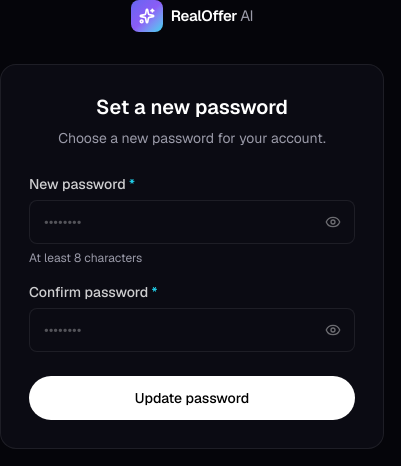
Test case: ResetPasswordForm — validation › requires at least 8 characters
Type "short1" into the password field labelled "New password" at (192, 222), box [29,200,355,244]
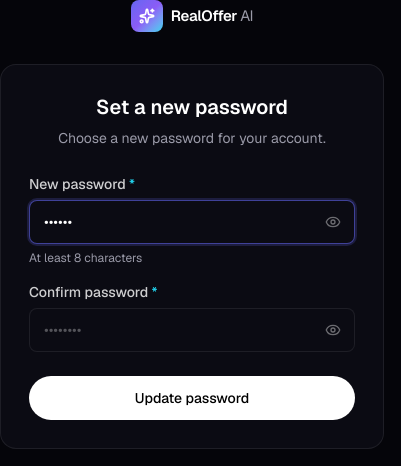
Type "short1" into the password field labelled "Confirm password" at (192, 330), box [29,308,355,352]
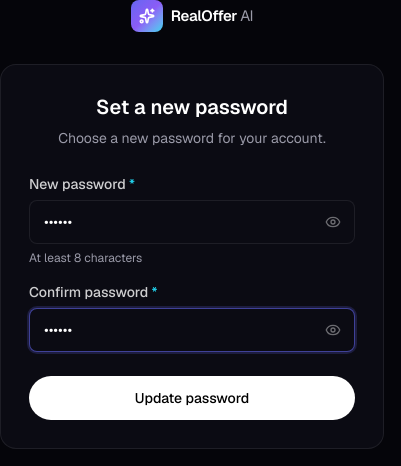
Click the button "Update password" at (192, 398), box [29,376,355,420]
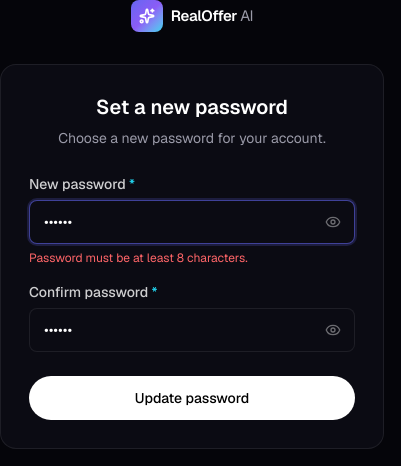
Result: the text "Password must be at least 8 characters." is shown at [29,250,248,266]
